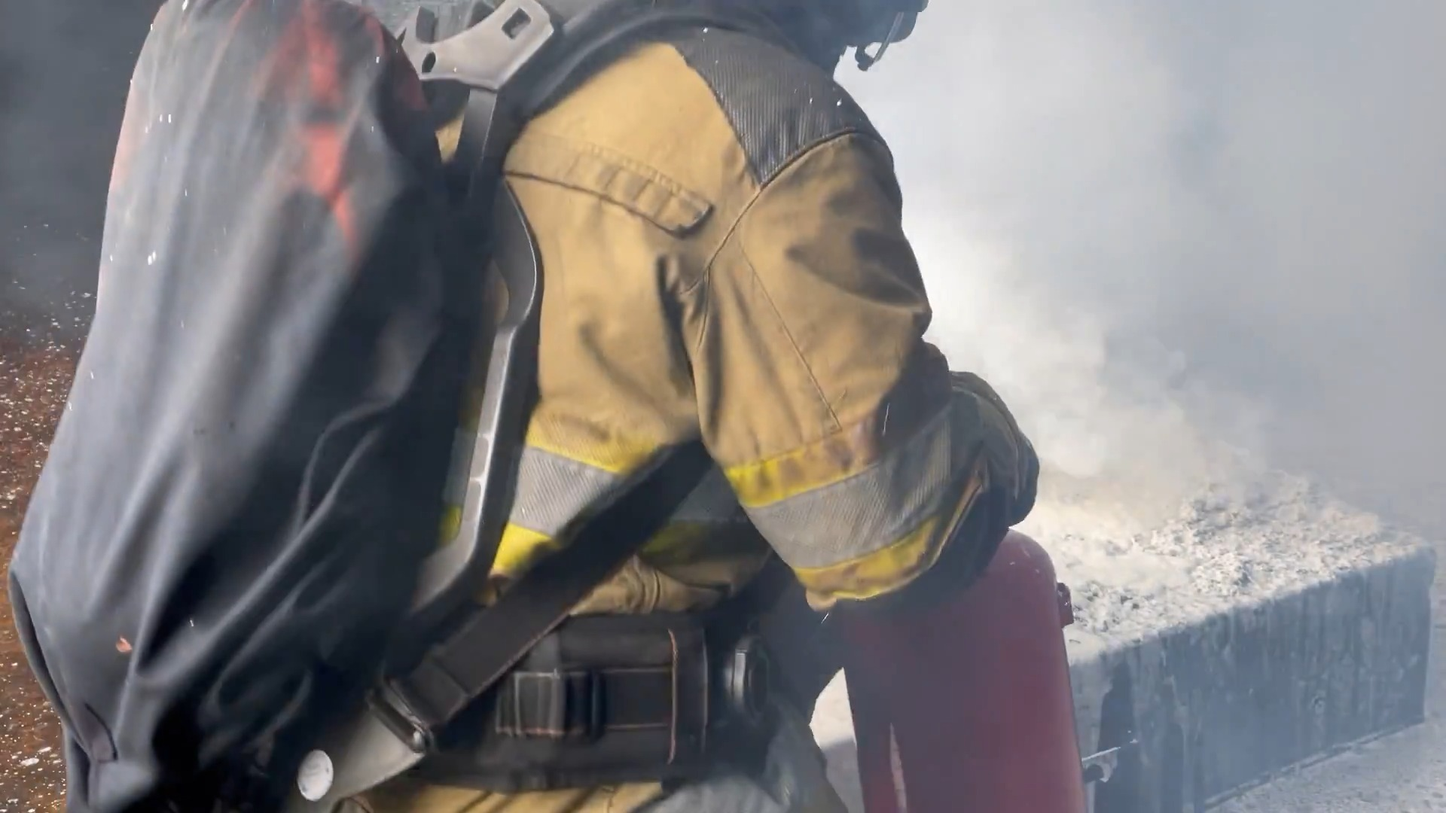smoke: (892, 0, 1446, 536)
